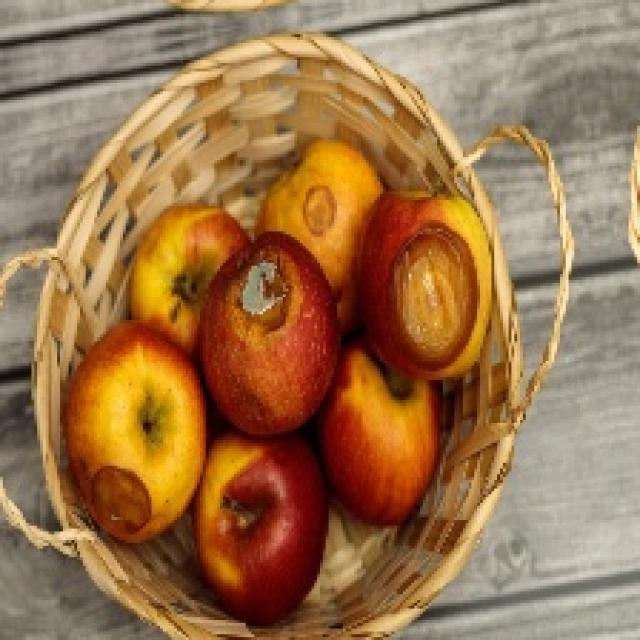rotten_apple: (66, 332, 194, 536), (205, 235, 337, 430), (366, 190, 494, 377), (260, 142, 369, 235)
